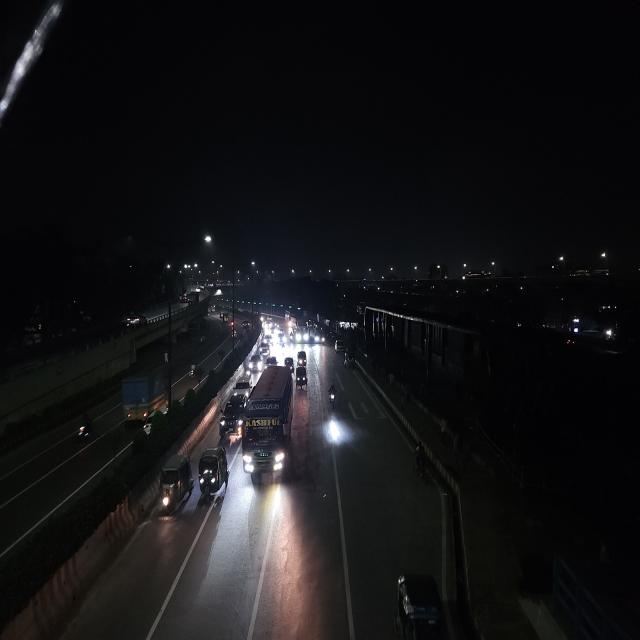bicycle: (409, 439, 434, 489)
bus: (242, 364, 296, 484), (306, 321, 324, 344), (292, 322, 308, 343)
car: (217, 398, 245, 443), (230, 379, 252, 402), (124, 314, 144, 329), (248, 352, 262, 372), (260, 341, 273, 355), (334, 340, 347, 354), (266, 354, 278, 368), (261, 333, 273, 346)
cng: (391, 567, 452, 640), (158, 452, 194, 521), (197, 444, 231, 511), (296, 366, 308, 393), (296, 349, 308, 367), (284, 354, 295, 371), (342, 353, 355, 367)
motorcycle: (73, 412, 95, 445), (326, 380, 339, 412)
truck: (117, 361, 167, 424), (186, 292, 200, 303)
